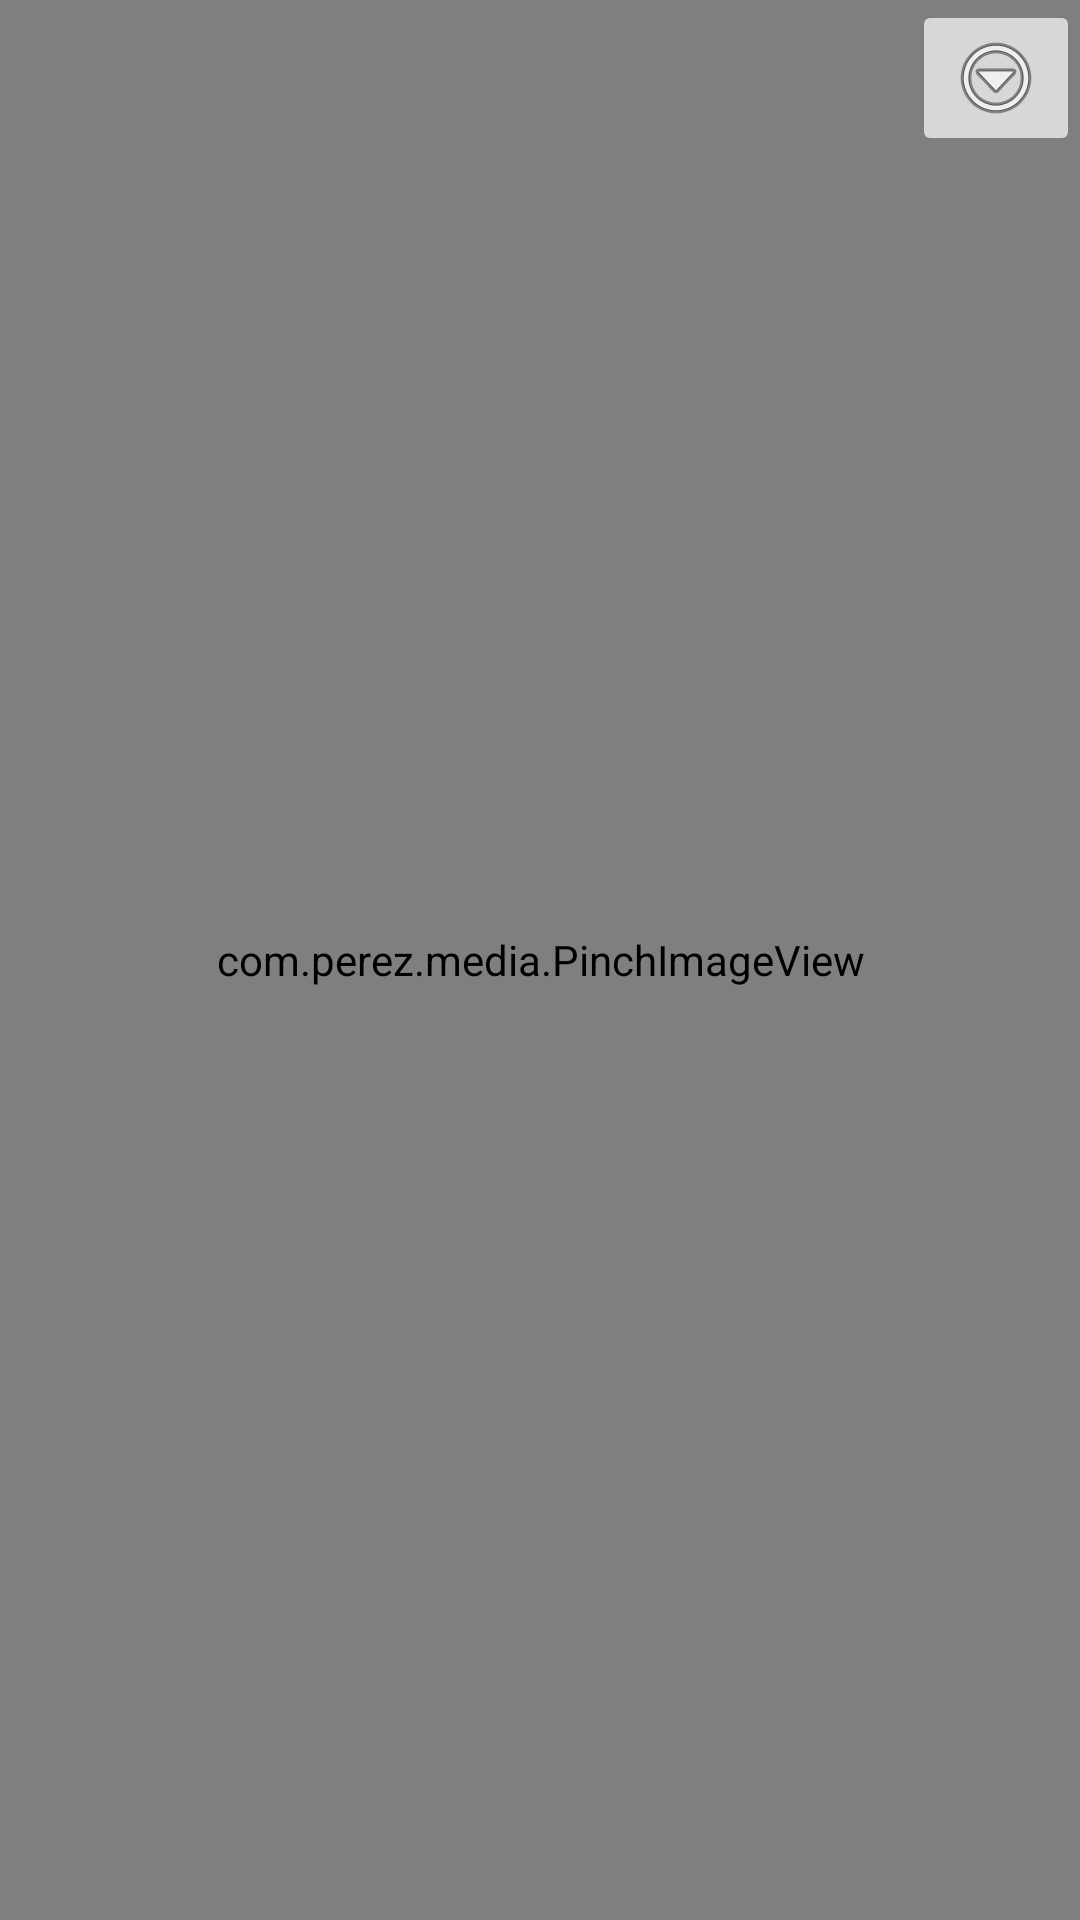

Where to tap for icons on this 1080 x 1920 app screen, as (x=x, y=y):
more: (x=996, y=78)
